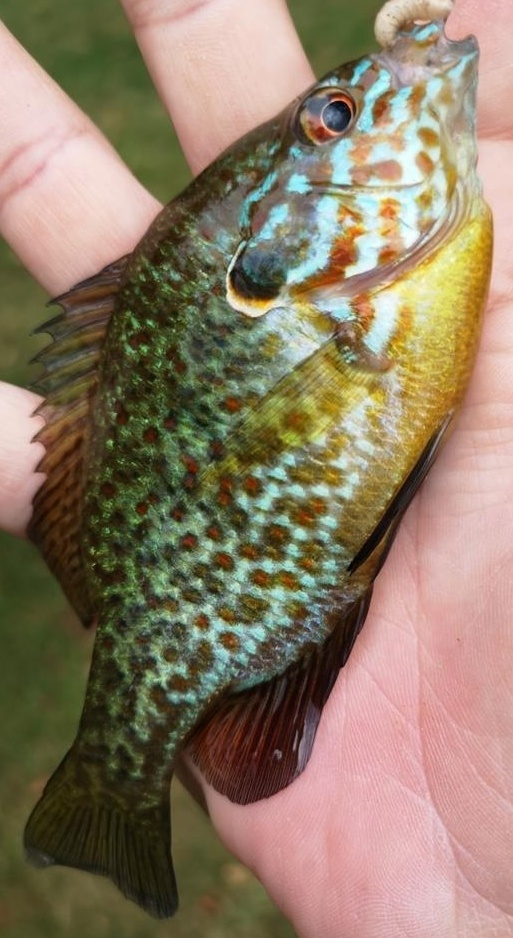Lepomis gibbosus: (20, 20, 493, 918)
